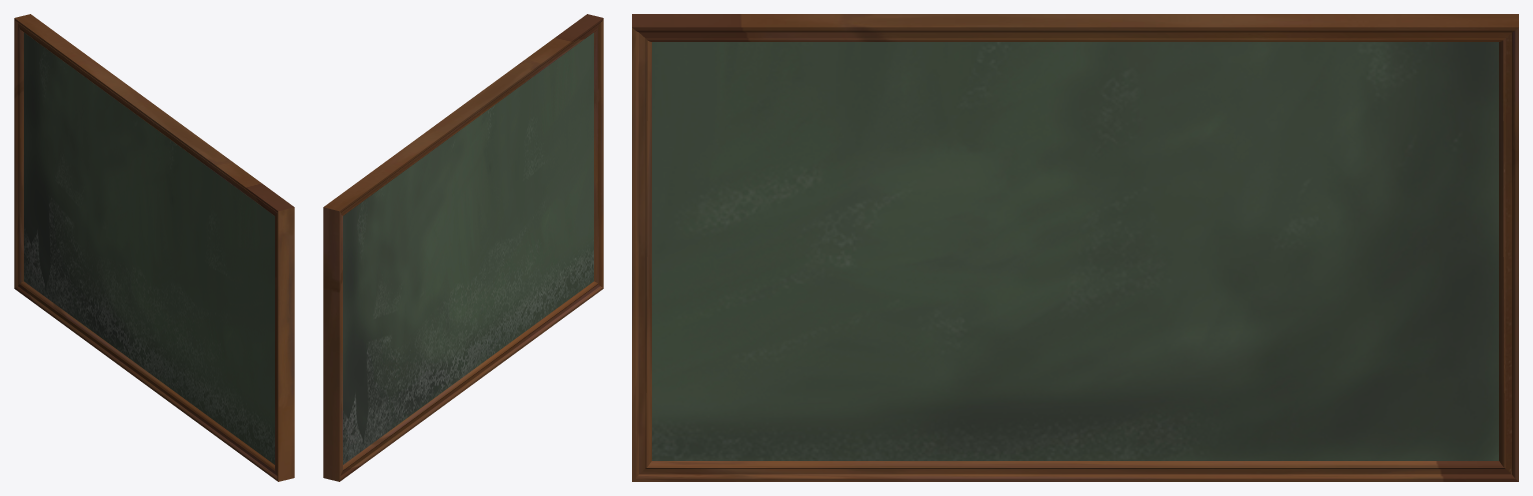
Rendered from Blackboard.fbx.
3 renders of one model, left to right at view 1: azimuth 30°, elevation 25°; view 2: azimuth 150°, elevation 25°; view 3: azimuth 270°, elevation 25°, orthographic. The views are drawn at different scales.
Visible parts, largest first — view 1: Cube.002; view 2: Cube.002; view 3: Cube.002.
Boxes of the visible parts, bbox=[...] form: Cube.002: bbox=[14, 14, 294, 481]; Cube.002: bbox=[323, 14, 603, 481]; Cube.002: bbox=[632, 14, 1518, 481].
Size of the model in its own units: 1.55 by 24.45 by 43.23.
Materials: 2 (2 with a texture image).
